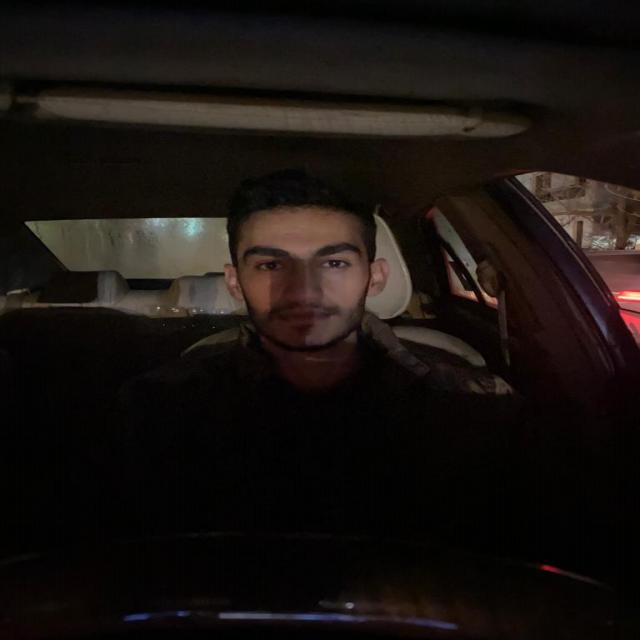person: (217, 169, 399, 352)
